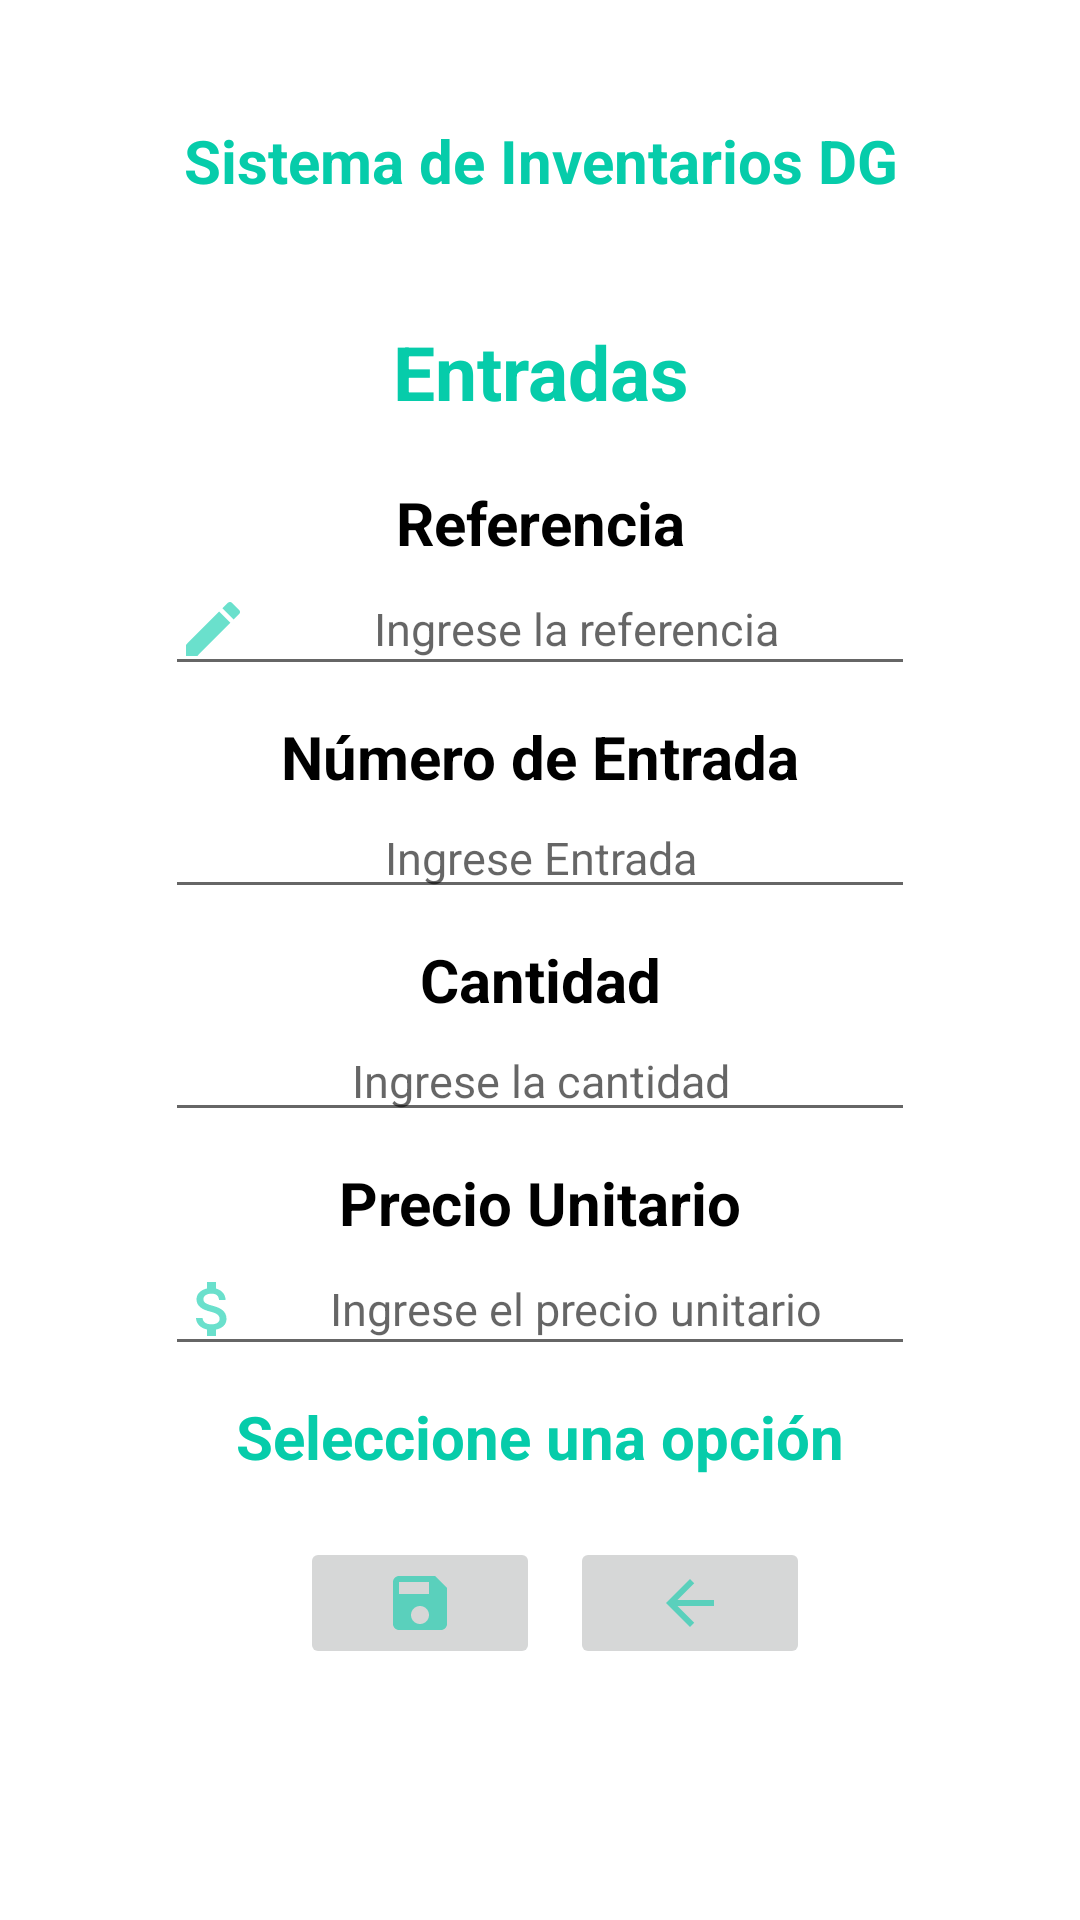

Icons on this 1080 x 1920 Android screen, each with the point to tap as [x,y]:
arrow back: [690,1603]
save: [420,1603]
